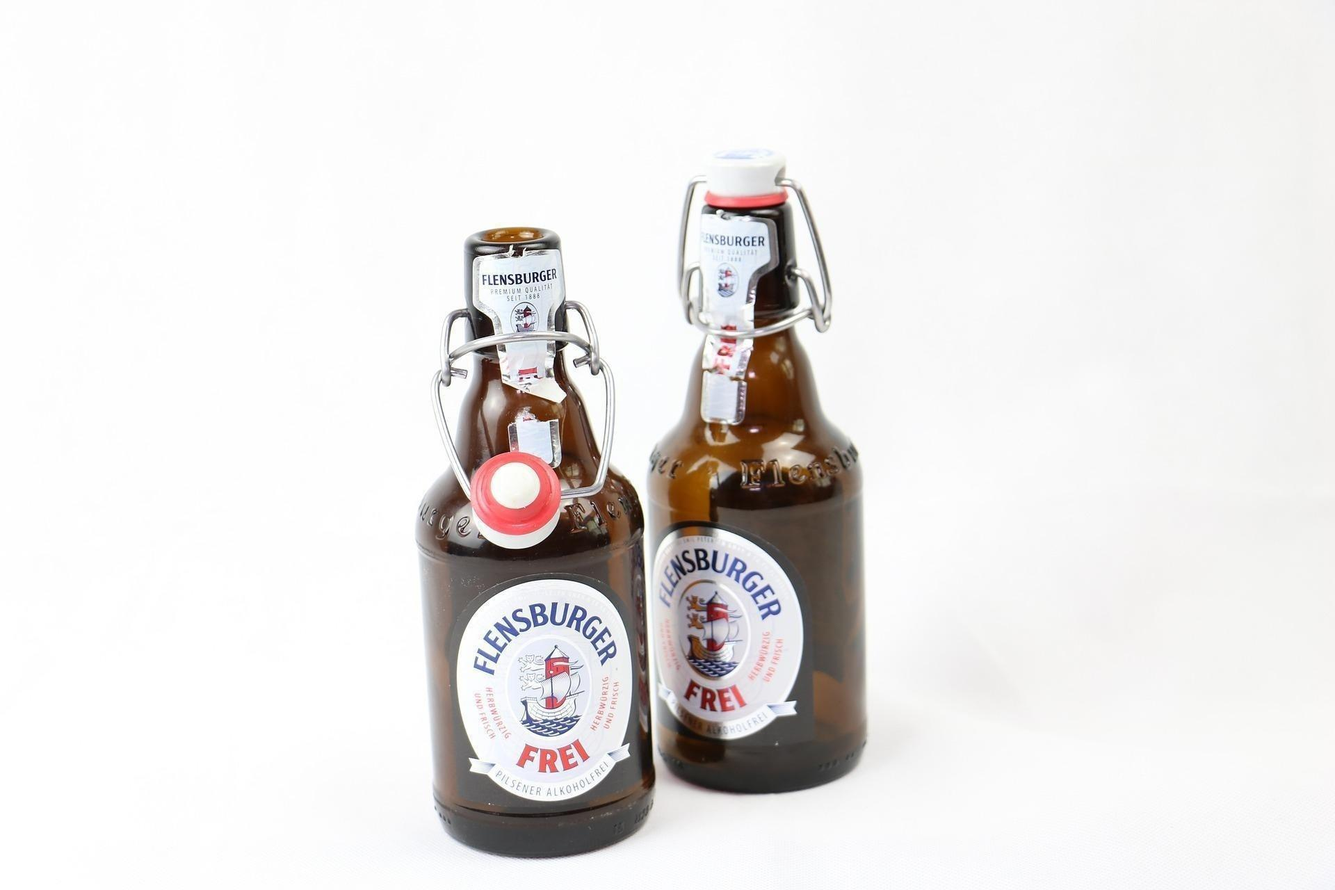bottle-glass: (634, 149, 882, 800), (412, 220, 660, 864)
